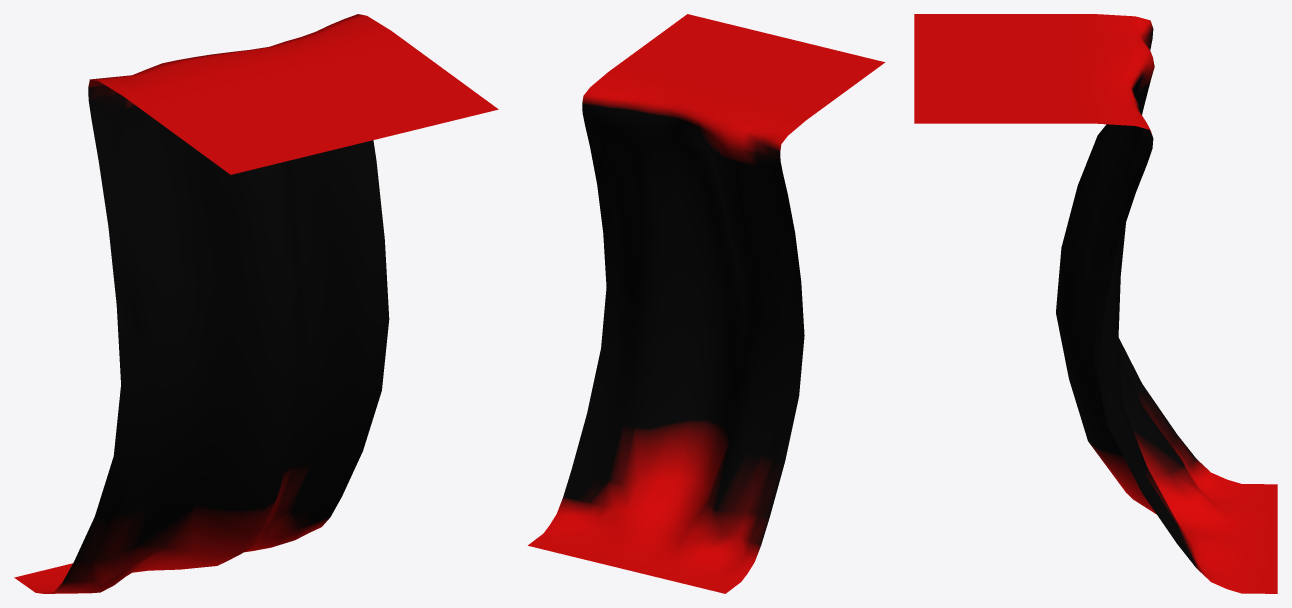
The model's file is GroundCliff00C 2M Foreground.fbx.
3 views of the same model, side by side, from view 1: azimuth 30°, elevation 25°; view 2: azimuth 150°, elevation 25°; view 3: azimuth 270°, elevation 25° (orthographic). The views are drawn at different scales.
Parts seen in each view (by area): view 1: GroundCliff00C 2M Foreground; view 2: GroundCliff00C 2M Foreground; view 3: GroundCliff00C 2M Foreground.
Part boxes in pixels (x1=…): GroundCliff00C 2M Foreground: x1=14, y1=14, x2=498, y2=593; GroundCliff00C 2M Foreground: x1=528, y1=14, x2=884, y2=593; GroundCliff00C 2M Foreground: x1=914, y1=14, x2=1277, y2=593.
Bounding box in the file's own units: 1 × 2 × 1.4.
